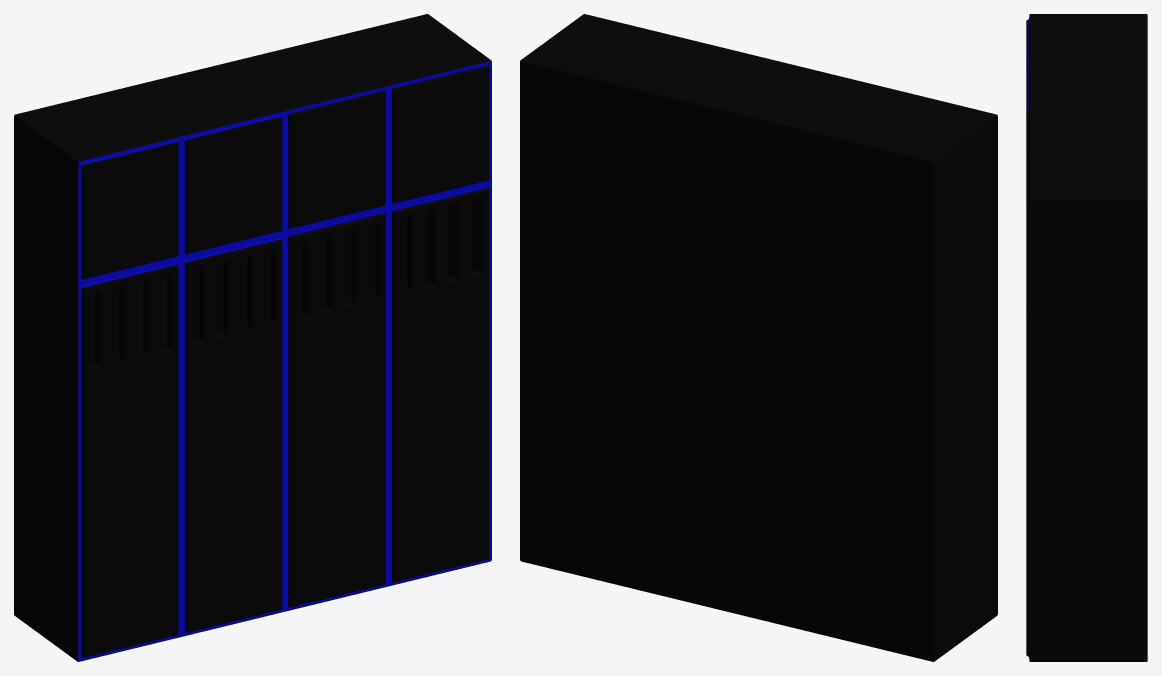
Rendered from Crew_Lockers.fbx.
The picture shows the model from 3 angles, left to right: view 1: azimuth 30°, elevation 25°; view 2: azimuth 150°, elevation 25°; view 3: azimuth 270°, elevation 25°; orthographic projection. The views are drawn at different scales.
Visible parts, largest first — view 1: Lockers; view 2: Lockers; view 3: Lockers.
Part boxes in pixels (<box>): Lockers: <box>14,14,491,661</box>; Lockers: <box>520,14,997,661</box>; Lockers: <box>1026,14,1147,661</box>.
Bounding box in the file's own units: 254 × 294 × 69.92.
